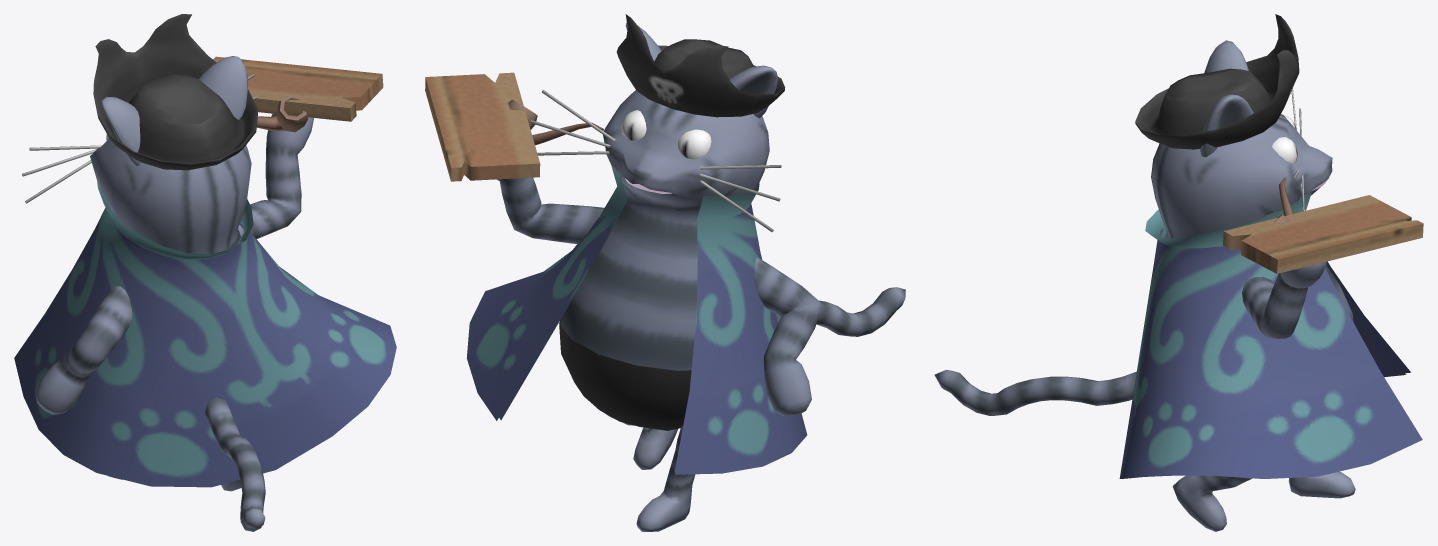
File: neko_walk_c_02.fbx
3 views of the same model, side by side, from view 1: azimuth 30°, elevation 25°; view 2: azimuth 150°, elevation 25°; view 3: azimuth 270°, elevation 25° (orthographic). The views are drawn at different scales.
Visible parts, largest first — view 1: W_c_02; view 2: W_c_02; view 3: W_c_02.
Part boxes in pixels (x1,y1,x2,y2): W_c_02: [14, 14, 396, 531]; W_c_02: [425, 14, 905, 531]; W_c_02: [934, 14, 1423, 531].
Bounding box in the file's own units: 1.54 × 1.9 × 1.79.
Materials: 1 (1 with a texture image).
